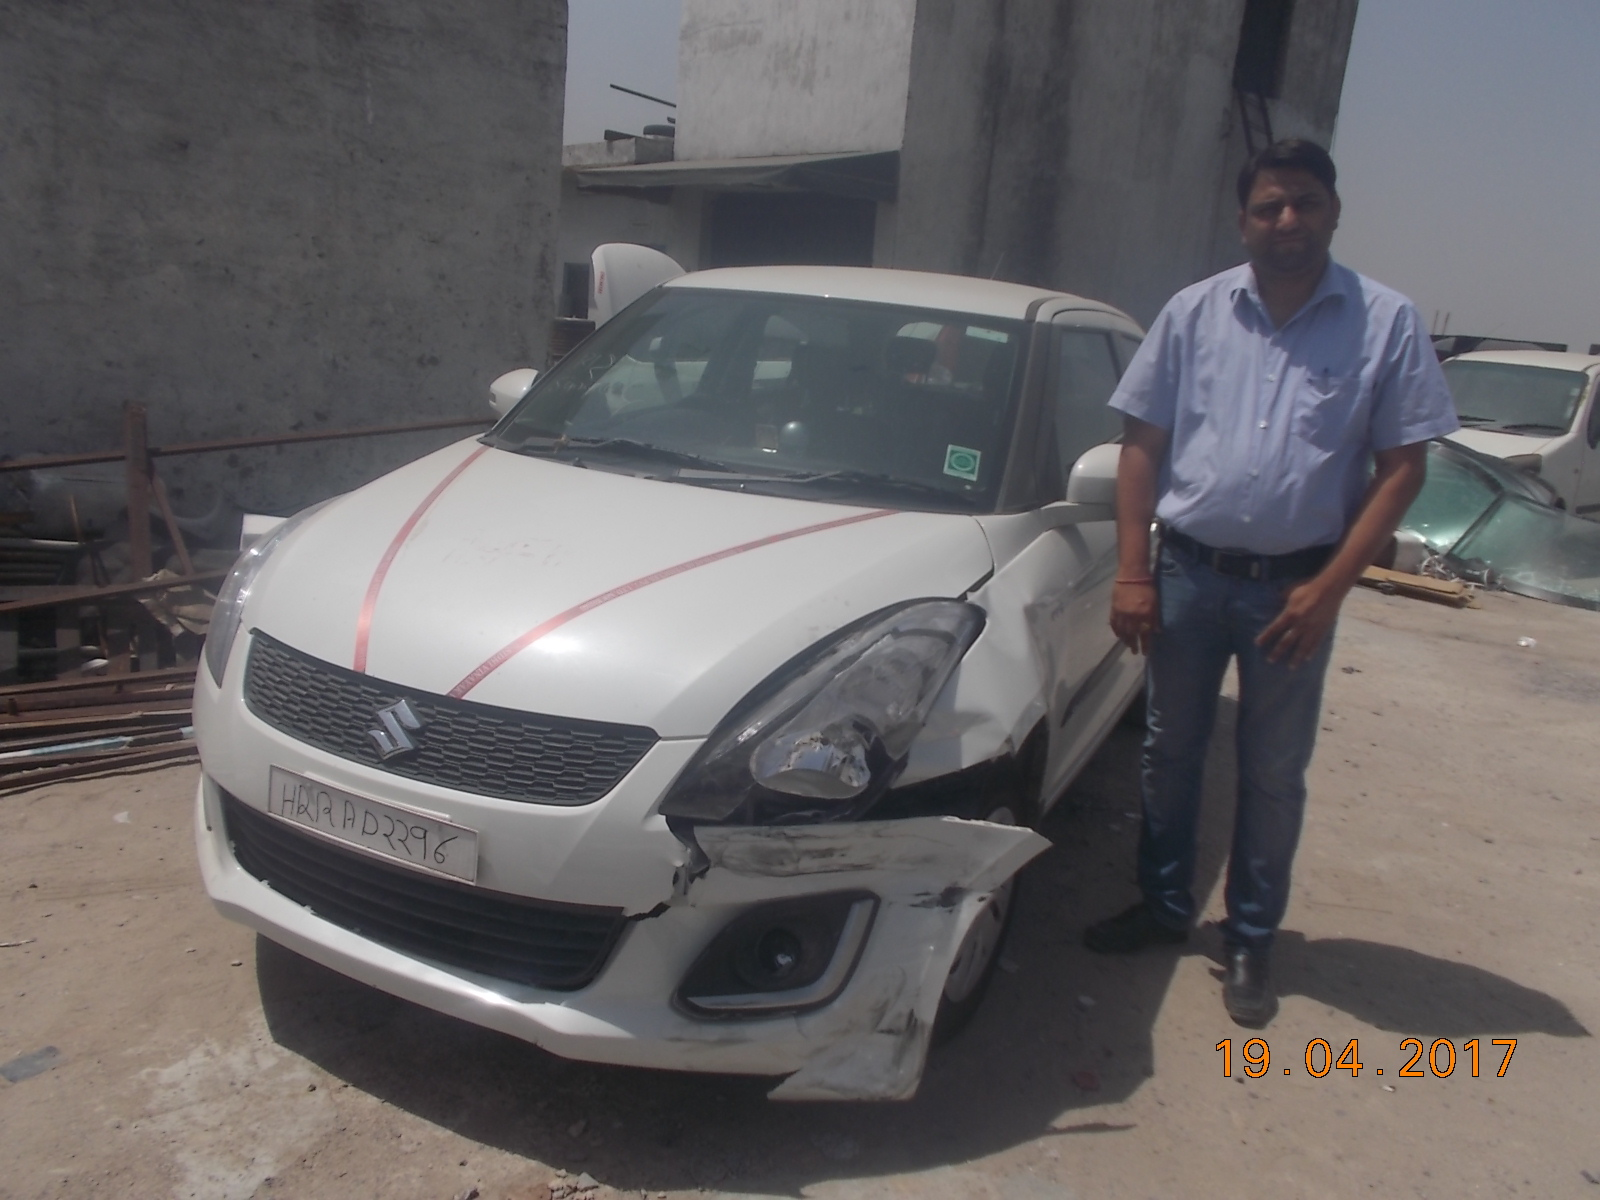Dent: (930, 701, 1009, 739)
Dislocation: (900, 753, 1039, 855)
Scratch_or_spot: (740, 826, 853, 870), (869, 991, 926, 1078), (913, 872, 978, 921)
Tear: (627, 821, 722, 928)
